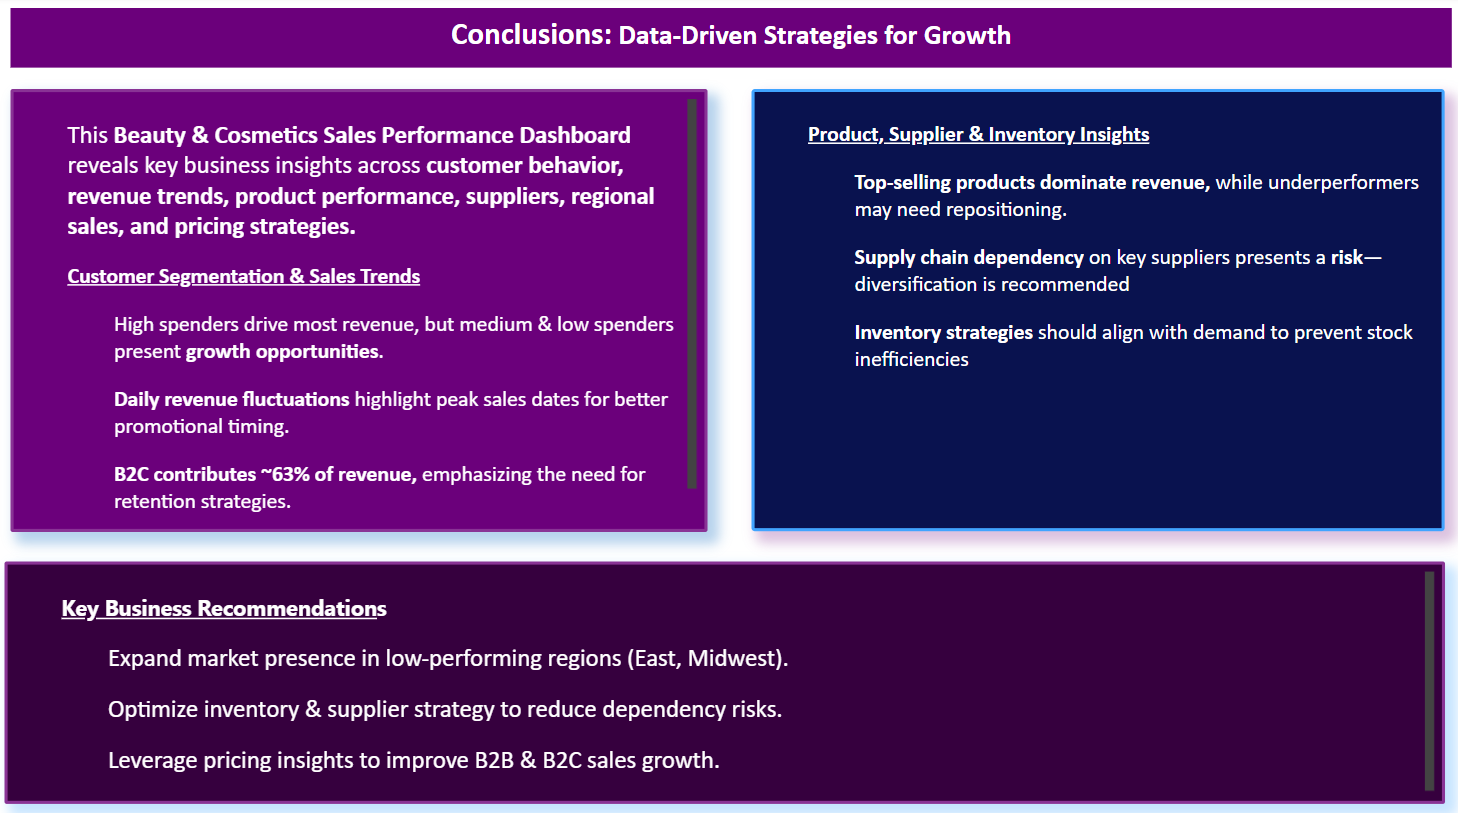

The dashboard page shown, as its layout file describes it:
{"tool":"powerbi","page":{"name":"Conclusion","canvas":[1280,720],"ordinal":17},"visuals":[{"type":"textbox","title":"Conclusions","box":[24.3,0,1241.4,51.4],"z":0},{"type":"textbox","box":[24.3,80,600,381.4],"z":1000},{"type":"textbox","box":[20,487.1,1240,208.6],"z":2000},{"type":"textbox","box":[678.6,80,567.1,381.4],"z":3000}]}

Visuals, with their boxes in screenshot pixels (x1, y1, x2, y2), scaled from the page's 1280x720 canvas onto the 1458x813 screenshot:
"Conclusions" textbox: pyautogui.locateOnScreen(28, 0, 1442, 58)
textbox: pyautogui.locateOnScreen(28, 90, 711, 521)
textbox: pyautogui.locateOnScreen(23, 550, 1435, 786)
textbox: pyautogui.locateOnScreen(773, 90, 1419, 521)
